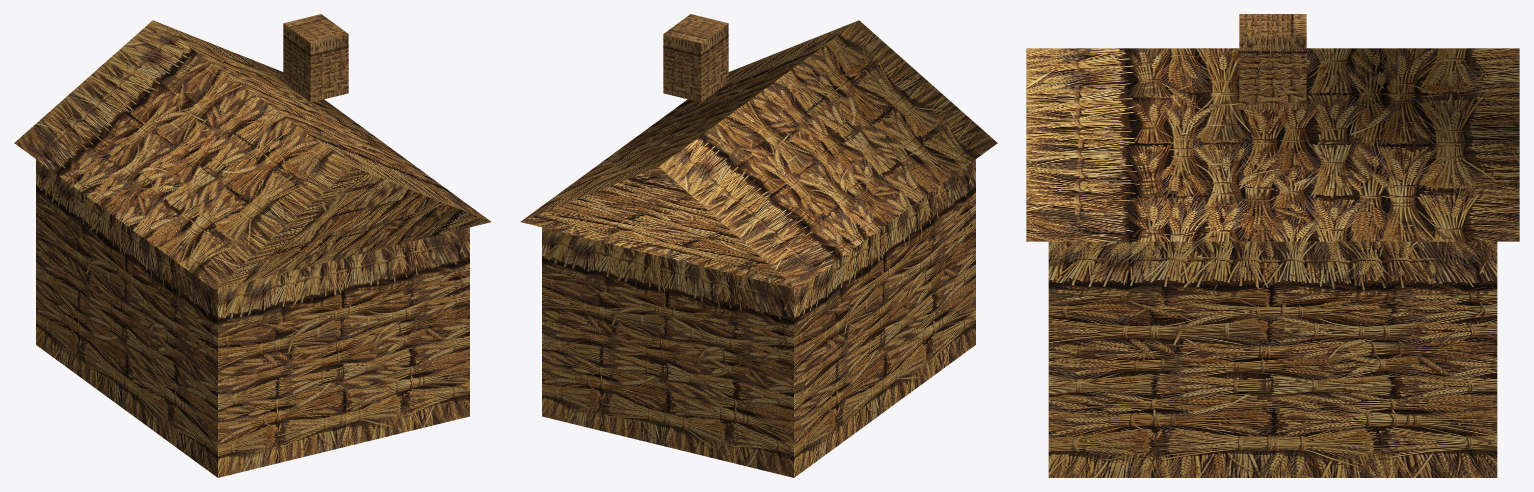
The model's file is slaughterhouse.obj.
3 renders of one model, left to right at view 1: azimuth 30°, elevation 25°; view 2: azimuth 150°, elevation 25°; view 3: azimuth 270°, elevation 25°, orthographic. The views are drawn at different scales.
Visible parts, largest first — view 1: building; view 2: building; view 3: building.
Part boxes in pixels (x1,y1,x2,y2): building: [14, 14, 491, 477]; building: [520, 14, 997, 477]; building: [1026, 14, 1519, 477].
Size of the model in its own units: 2.2 by 2.55 by 2.75.
